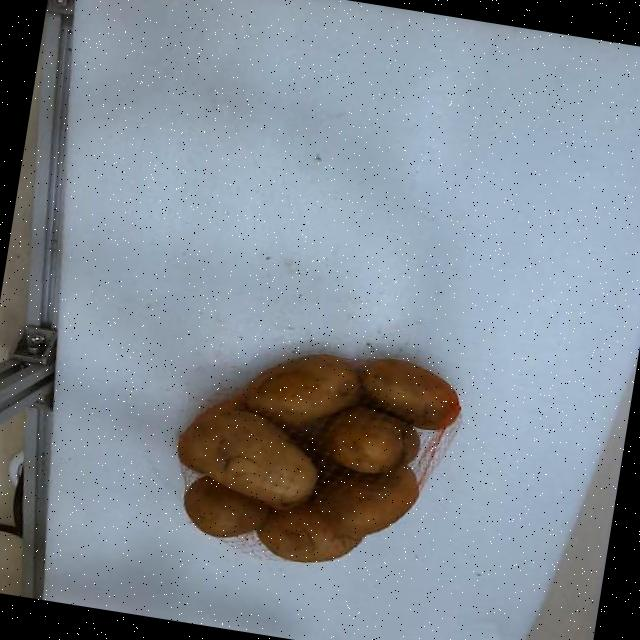potato: (178, 410, 316, 506), (247, 355, 360, 428), (313, 464, 418, 538), (360, 359, 460, 429), (258, 503, 361, 563), (322, 407, 411, 473), (184, 476, 268, 538), (401, 425, 420, 464)
